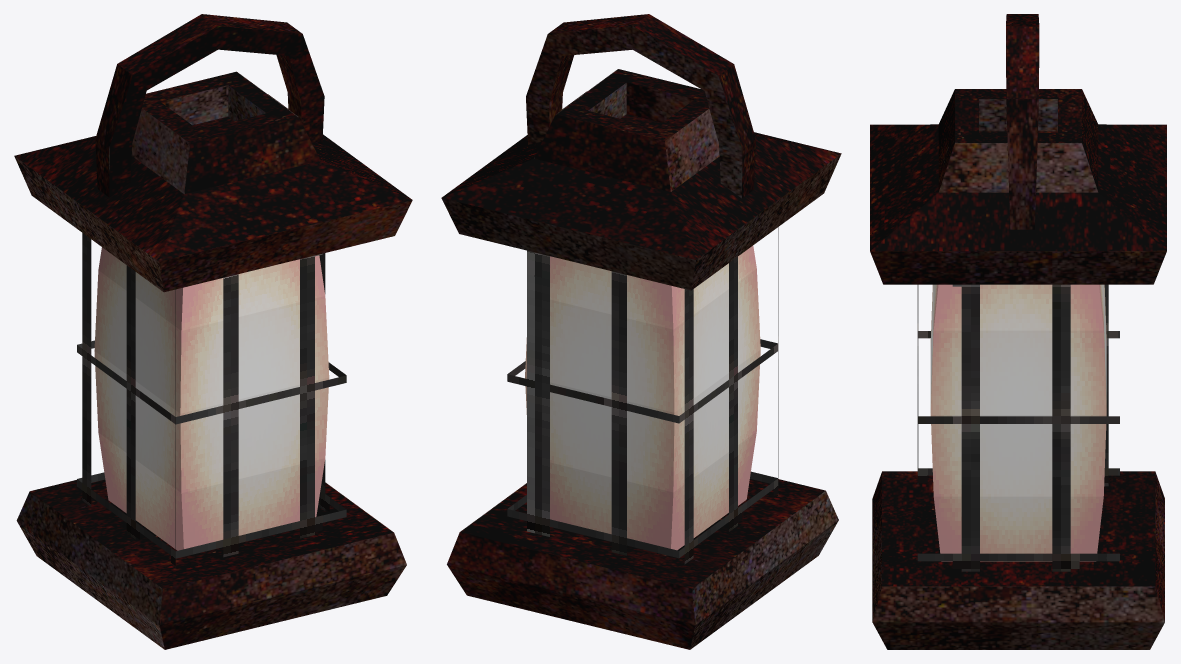
The model's file is lantern.obj.
3 views of the same model, side by side, from view 1: azimuth 30°, elevation 25°; view 2: azimuth 150°, elevation 25°; view 3: azimuth 270°, elevation 25° (orthographic). The views are drawn at different scales.
Visible parts, largest first — view 1: Cube, Cube.001; view 2: Cube, Cube.001; view 3: Cube, Cube.001.
Boxes of the visible parts, x1,y1,x2,y2 form: Cube: (14, 14, 412, 649); Cube.001: (77, 233, 346, 568); Cube: (441, 14, 841, 649); Cube.001: (507, 227, 778, 564); Cube: (870, 14, 1166, 649); Cube.001: (917, 284, 1119, 571).
Size of the model in its own units: 2 by 4.18 by 1.98.
3 materials, 3 textured.
